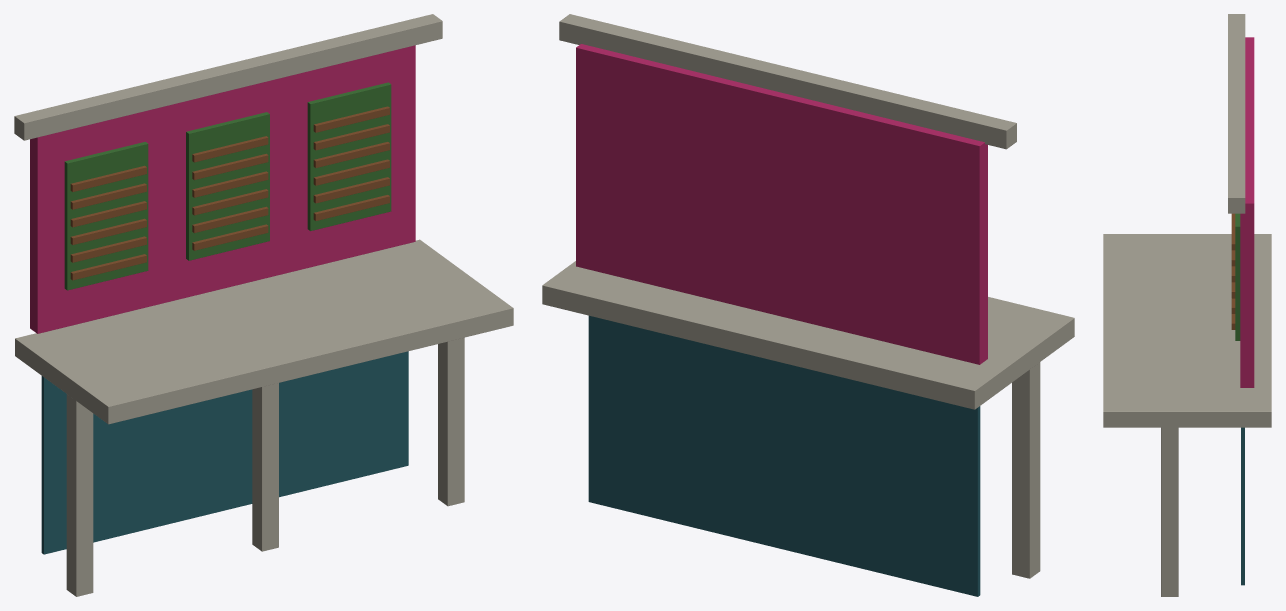
File: source-edit.glb
The picture shows the model from 3 angles, left to right: view 1: azimuth 30°, elevation 25°; view 2: azimuth 150°, elevation 25°; view 3: azimuth 270°, elevation 25°; orthographic projection. The views are drawn at different scales.
Parts seen in each view (by area): view 1: Arcade_Canopy, Upper_Facade, Shopfront, Cornice, Shutter_Window, Shutter_Window.002, Shutter_Window.001, Arcade_Column.001, Arcade_Column, Arcade_Column.002, Shutter_Louvre.003, Shutter_Louvre.007 (+16 smaller); view 2: Upper_Facade, Shopfront, Arcade_Canopy, Cornice, Arcade_Column.001; view 3: Arcade_Canopy, Upper_Facade, Cornice, Arcade_Column, Shutter_Window.002, Shopfront.
Boxes of the visible parts, left/top/right/bottom form: Arcade_Canopy: left=15, top=239, right=513, bottom=424; Upper_Facade: left=30, top=45, right=415, bottom=333; Shopfront: left=41, top=351, right=408, bottom=554; Cornice: left=14, top=14, right=442, bottom=140; Shutter_Window: left=64, top=141, right=148, bottom=290; Shutter_Window.002: left=307, top=82, right=391, bottom=230; Shutter_Window.001: left=186, top=112, right=269, bottom=260; Arcade_Column.001: left=66, top=394, right=93, bottom=596; Arcade_Column: left=438, top=337, right=464, bottom=506; Arcade_Column.002: left=252, top=383, right=278, bottom=551; Shutter_Louvre.003: left=70, top=201, right=146, bottom=227; Shutter_Louvre.007: left=192, top=206, right=268, bottom=233; Upper_Facade: left=576, top=44, right=987, bottom=364; Shopfront: left=588, top=315, right=980, bottom=596; Arcade_Canopy: left=542, top=261, right=1074, bottom=409; Cornice: left=559, top=14, right=1016, bottom=149; Arcade_Column.001: left=1012, top=362, right=1040, bottom=578; Arcade_Canopy: left=1103, top=234, right=1271, bottom=427; Upper_Facade: left=1240, top=37, right=1254, bottom=387; Cornice: left=1228, top=14, right=1245, bottom=213; Arcade_Column: left=1161, top=427, right=1178, bottom=596; Shutter_Window.002: left=1235, top=213, right=1240, bottom=340; Shopfront: left=1241, top=427, right=1244, bottom=585.
Size of the model in its own units: 6.22 by 6.38 by 2.4.
